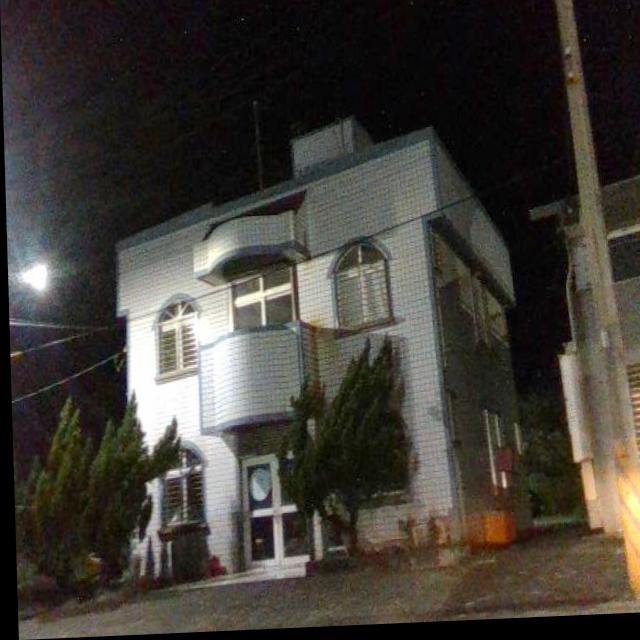pollute: (476, 516, 518, 557)
